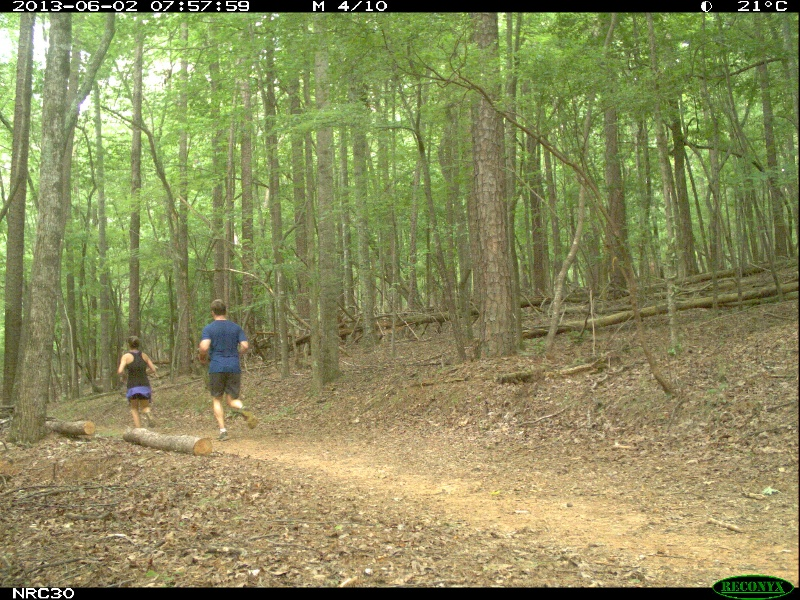human: (197, 296, 258, 446), (115, 335, 164, 433)
human legs: (208, 365, 257, 441), (128, 384, 157, 432)
